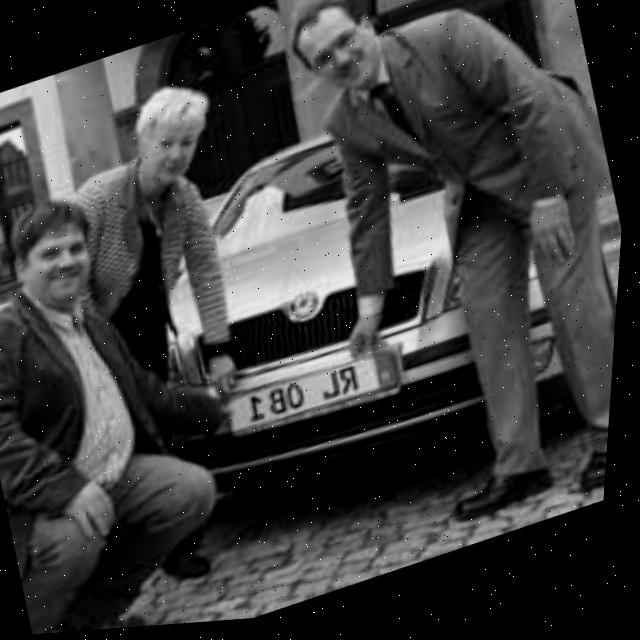license-plates: (229, 349, 397, 437)
